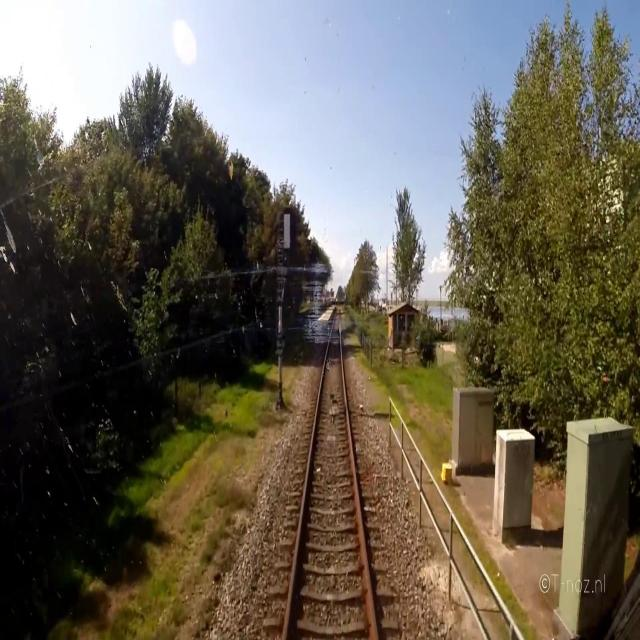rail-track: (286, 305, 374, 639)
